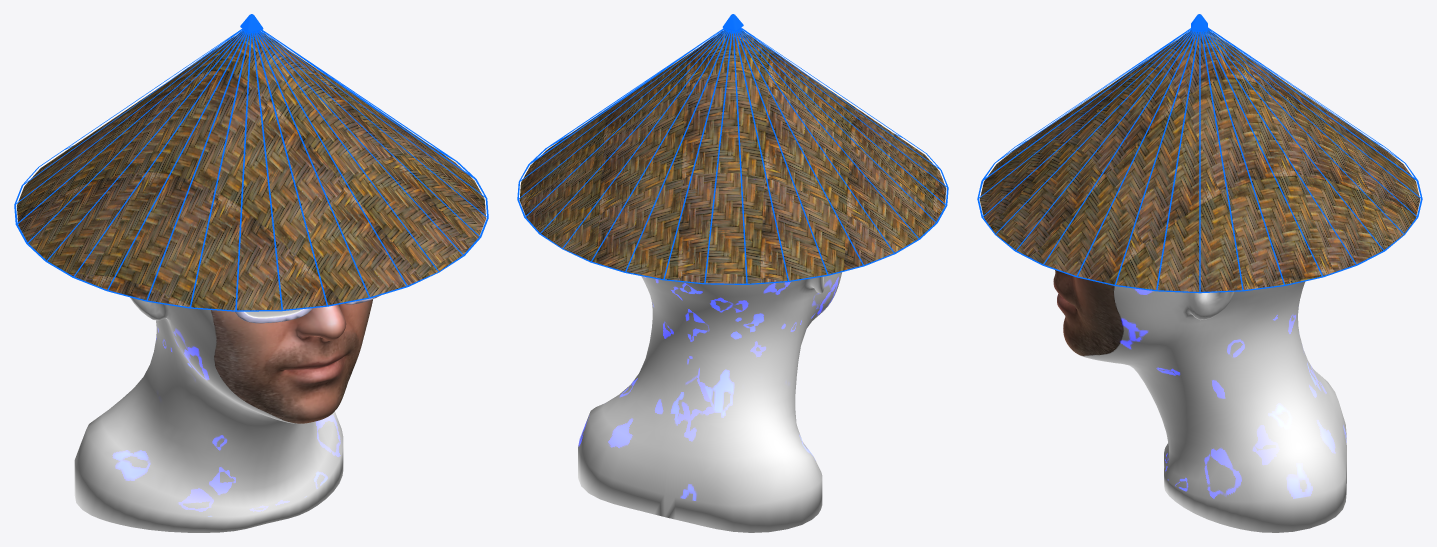
File: frank2.glb
3 renders of one model, left to right at view 1: azimuth 30°, elevation 25°; view 2: azimuth 150°, elevation 25°; view 3: azimuth 270°, elevation 25°, orthographic. The views are drawn at different scales.
Visible parts, largest first — view 1: hat, head, glasses; view 2: hat, head; view 3: hat, head.
Boxes of the visible parts, x1,y1,x2,y2 form: hat: (14, 14, 488, 311); head: (74, 297, 372, 532); glasses: (235, 295, 380, 323); hat: (517, 14, 948, 284); head: (578, 272, 841, 532); hat: (977, 14, 1422, 293); head: (1053, 270, 1346, 532).
Size of the model in its own units: 3.16 by 3.63 by 3.16.
Materials: 6 (3 with a texture image).
